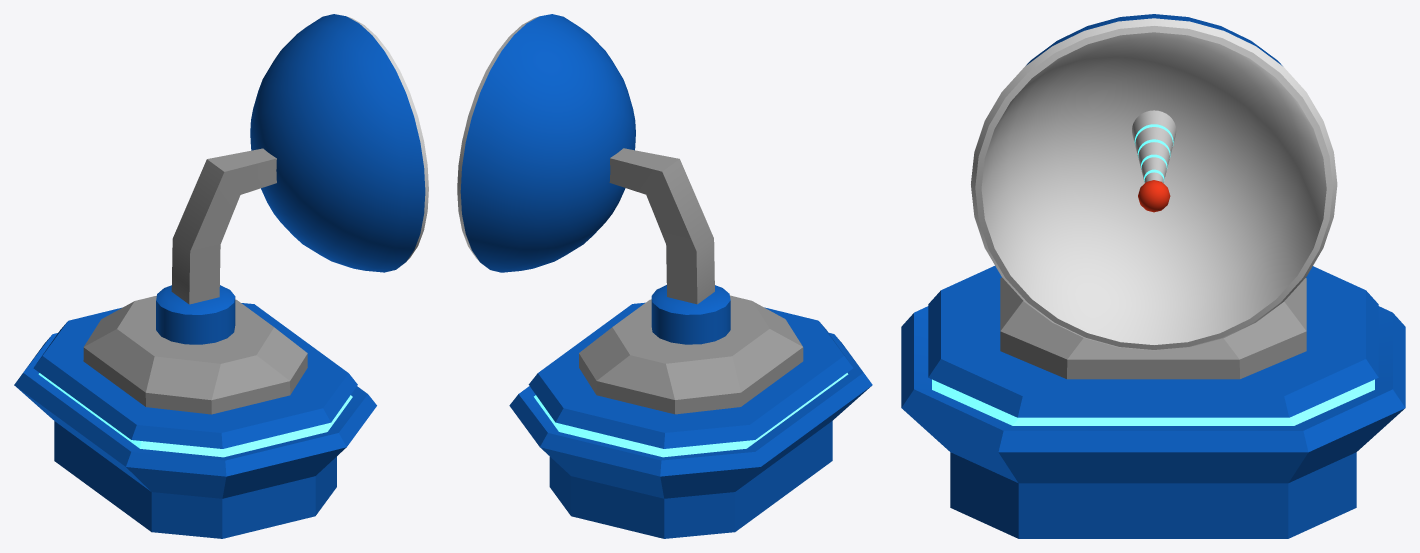
File: Laser_var2.fbx
3 renders of one model, left to right at view 1: azimuth 30°, elevation 25°; view 2: azimuth 150°, elevation 25°; view 3: azimuth 270°, elevation 25°, orthographic. The views are drawn at different scales.
Parts seen in each view (by area): view 1: Laser2, Laser_mainbody2, Laser_stand2; view 2: Laser2, Laser_mainbody2, Laser_stand2; view 3: Laser2, Laser_mainbody2, Laser_stand2.
Boxes of the visible parts, x1,y1,x2,y2 form: Laser2: (156, 14, 428, 344); Laser_mainbody2: (14, 303, 376, 538); Laser_stand2: (83, 295, 307, 414); Laser2: (457, 14, 730, 344); Laser_mainbody2: (509, 302, 872, 538); Laser_stand2: (579, 295, 803, 414); Laser2: (971, 14, 1337, 350); Laser_mainbody2: (901, 266, 1405, 538); Laser_stand2: (1000, 277, 1306, 379).
Size of the model in its own units: 1.88 by 2.33 by 1.87.
1 material, 1 textured.
